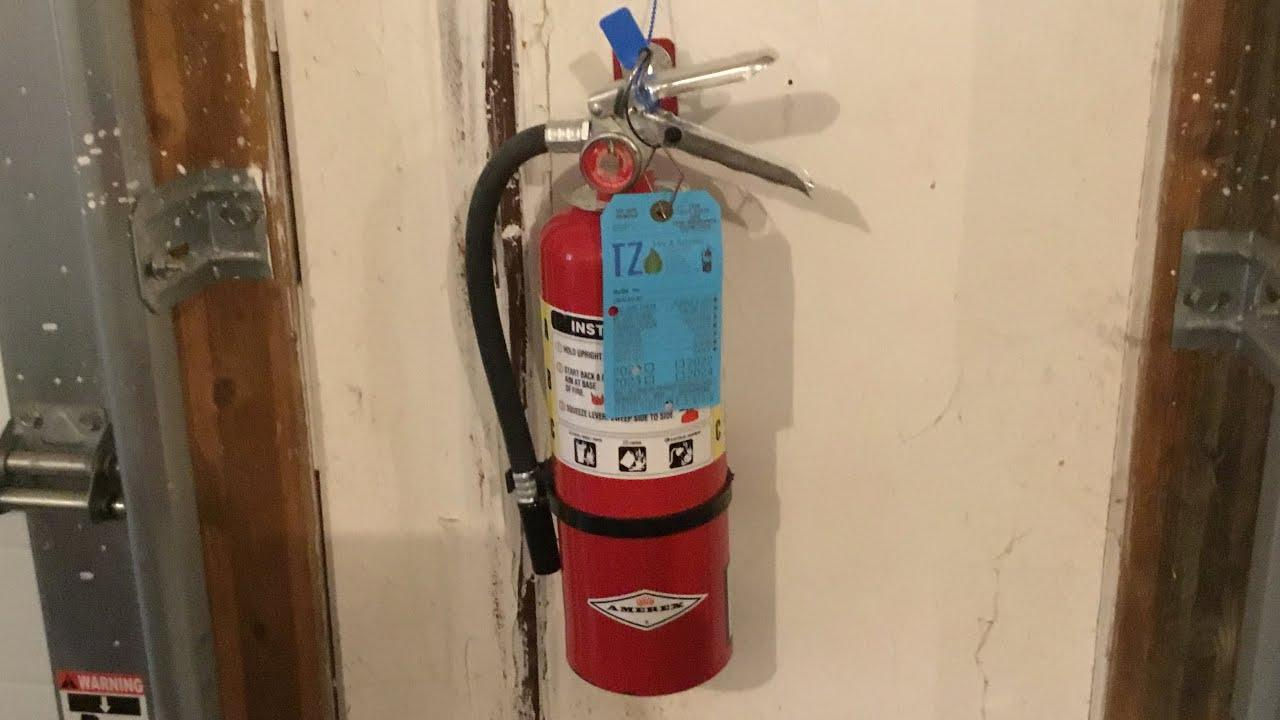wall-mounted: (382, 28, 852, 714)
